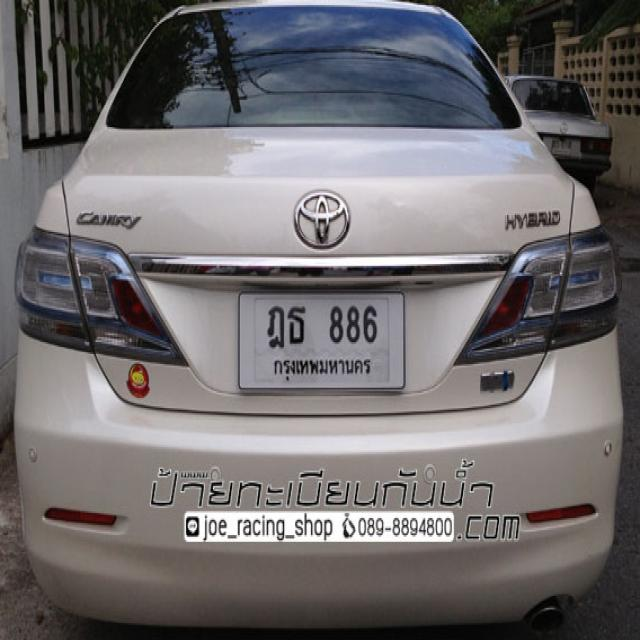license_plate: (236, 286, 409, 396)
